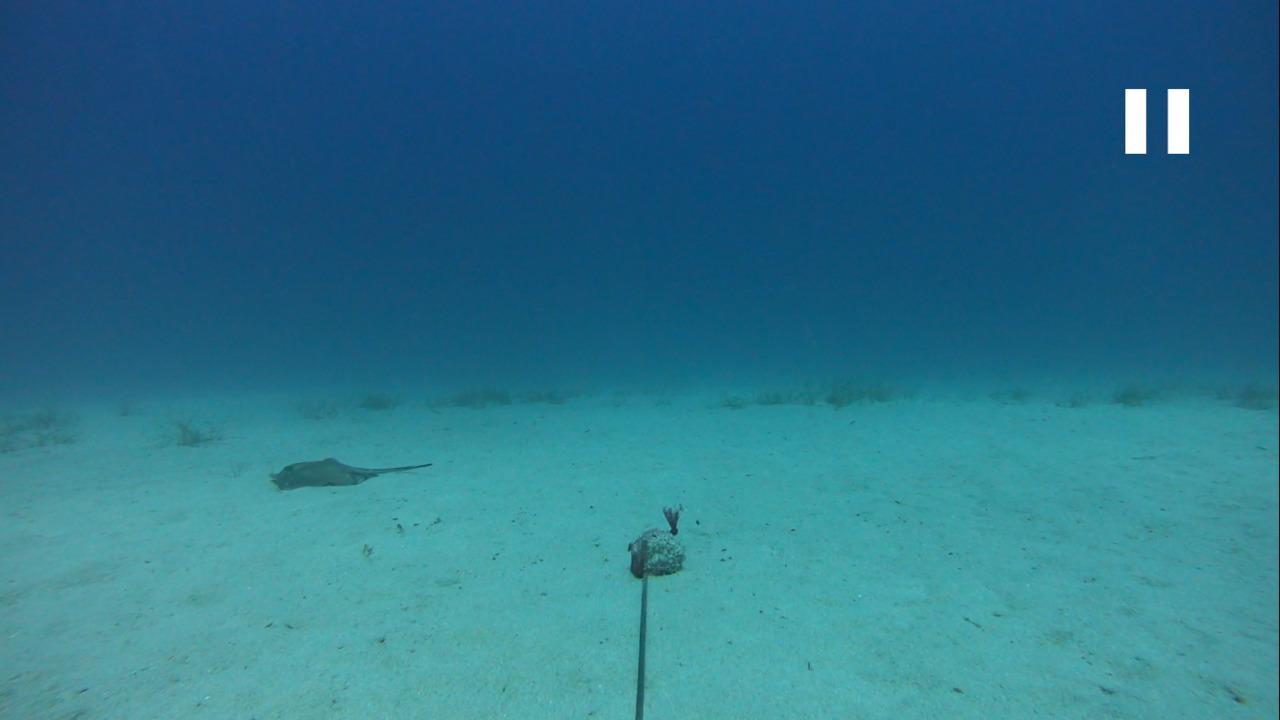myliobatis: (267, 451, 433, 494)
